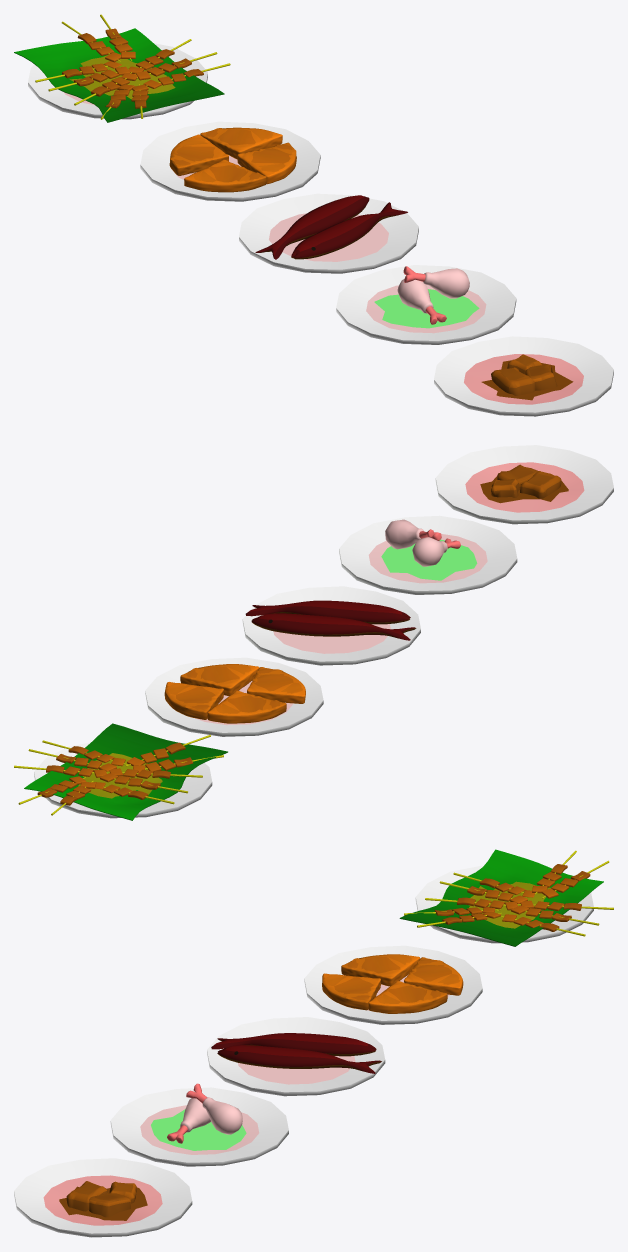
File: Makanan PAdank 1.fbx
3 views of the same model, one above another, from view 1: azimuth 30°, elevation 25°; view 2: azimuth 150°, elevation 25°; view 3: azimuth 330°, elevation 25° (orthographic).
Parts seen in each view (by area): view 1: Sate Padang, Ikan Bakar, Ayam Pop, Telur, Rendang; view 2: Sate Padang, Ikan Bakar, Rendang, Telur, Ayam Pop; view 3: Sate Padang, Ayam Pop, Rendang, Telur, Ikan Bakar.
Part boxes in pixels (x1,y1,x2,y2): Sate Padang: [14, 14, 230, 122]; Ikan Bakar: [239, 193, 418, 273]; Ayam Pop: [336, 265, 516, 344]; Telur: [140, 121, 320, 201]; Rendang: [434, 336, 613, 416]; Sate Padang: [14, 723, 227, 820]; Ikan Bakar: [242, 586, 420, 665]; Rendang: [435, 445, 613, 524]; Telur: [145, 657, 323, 736]; Ayam Pop: [339, 515, 517, 594]; Sate Padang: [399, 849, 613, 946]; Ayam Pop: [110, 1083, 288, 1166]; Rendang: [14, 1158, 192, 1237]; Telur: [304, 945, 482, 1024]; Ikan Bakar: [207, 1017, 385, 1096].
Size of the model in its own units: 224 by 54.79 by 1140.
1 material, 1 textured.
